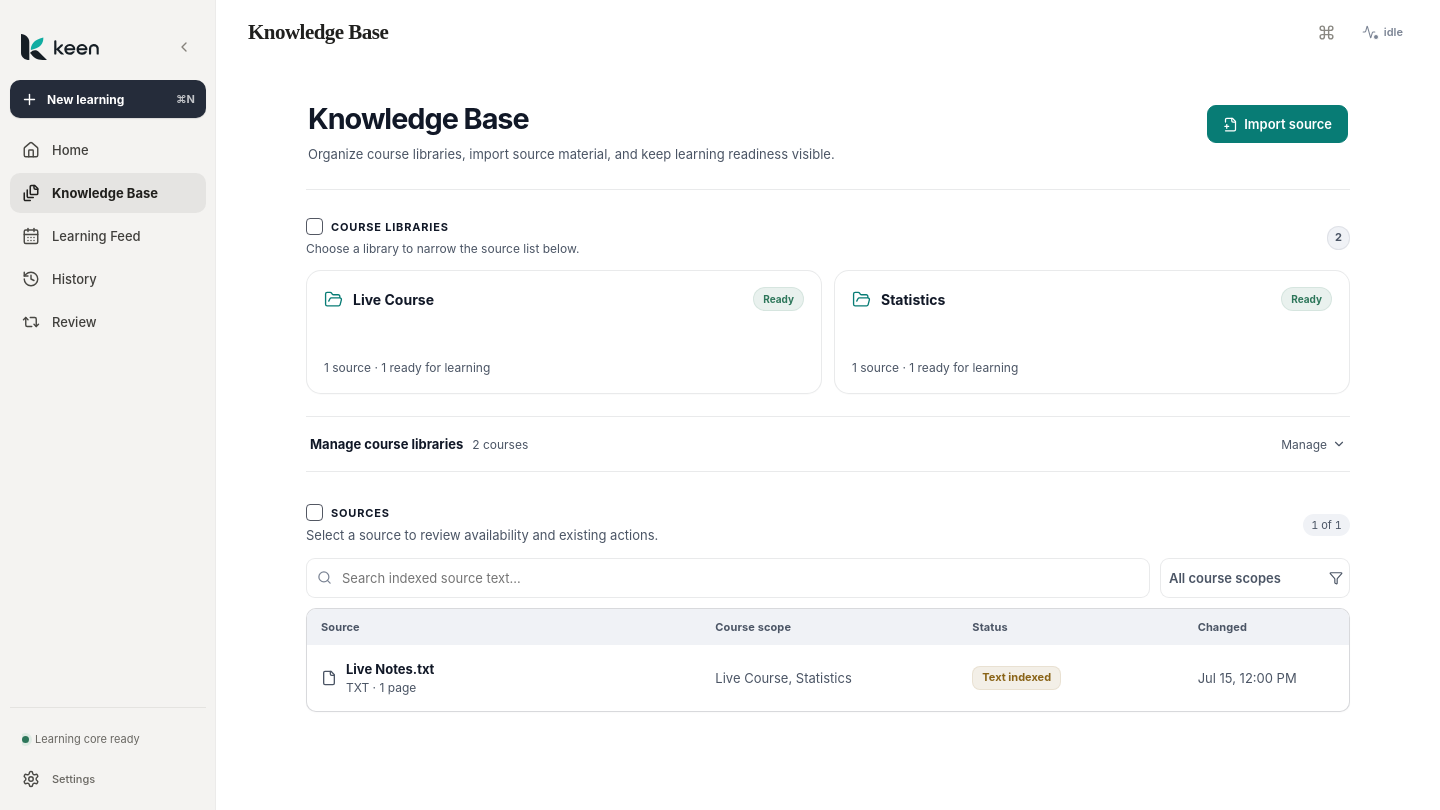
Test: learning-core runtime states › requires an explicit linked course when one indexed source belongs to several courses
Click the button with aria-label "Open source details: Live Notes.txt": x=828, y=678 [307,645,1349,711]
(page scrolled)
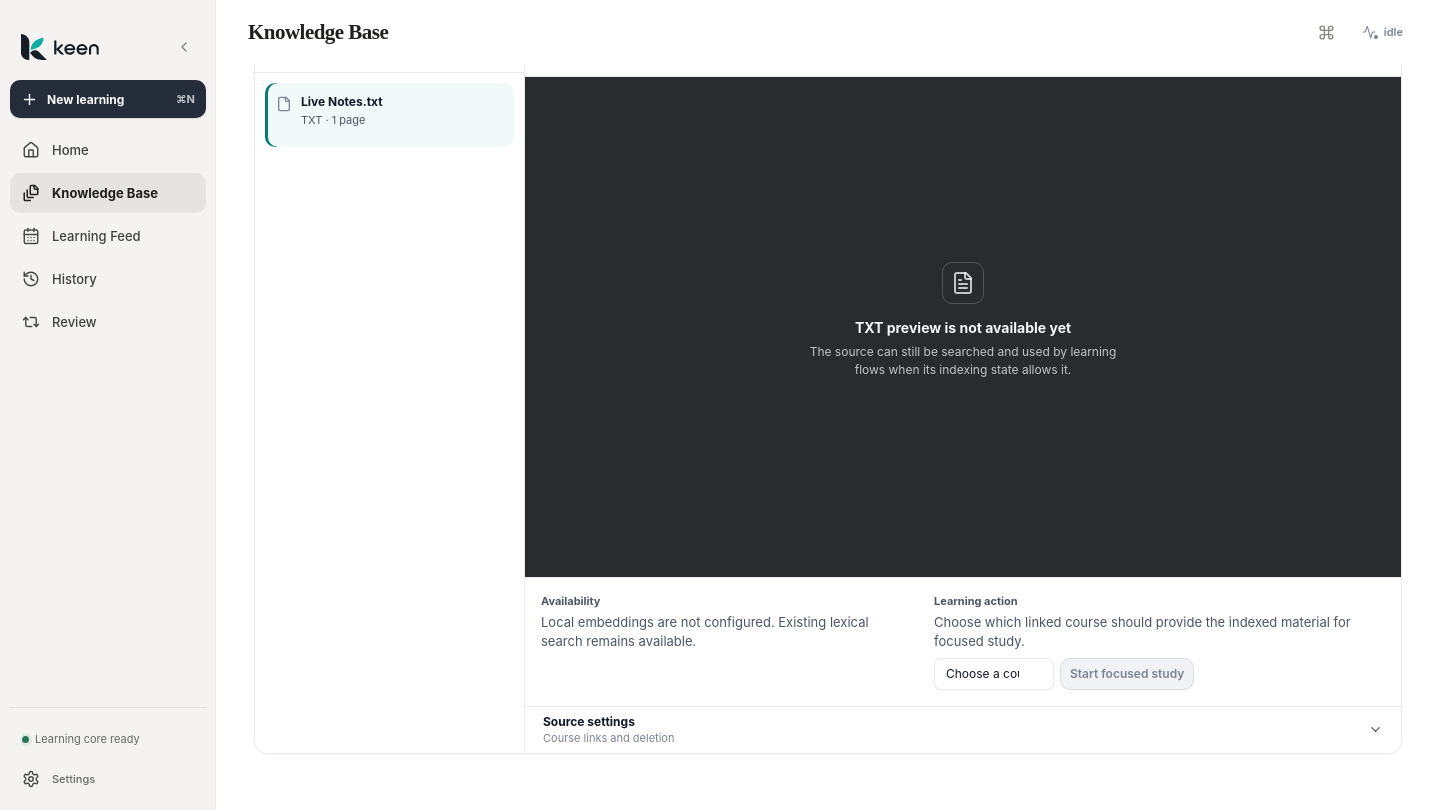
Expected: the dropdown named "Course for learning from Live Notes.txt" shows "Choose a course"
Expected: the button "Start focused study" is disabled, [1060,658,1194,690]
Select "Statistics" in the dropdown named "Course for learning from Live Notes.txt": x=994, y=674 [934,658,1054,690]
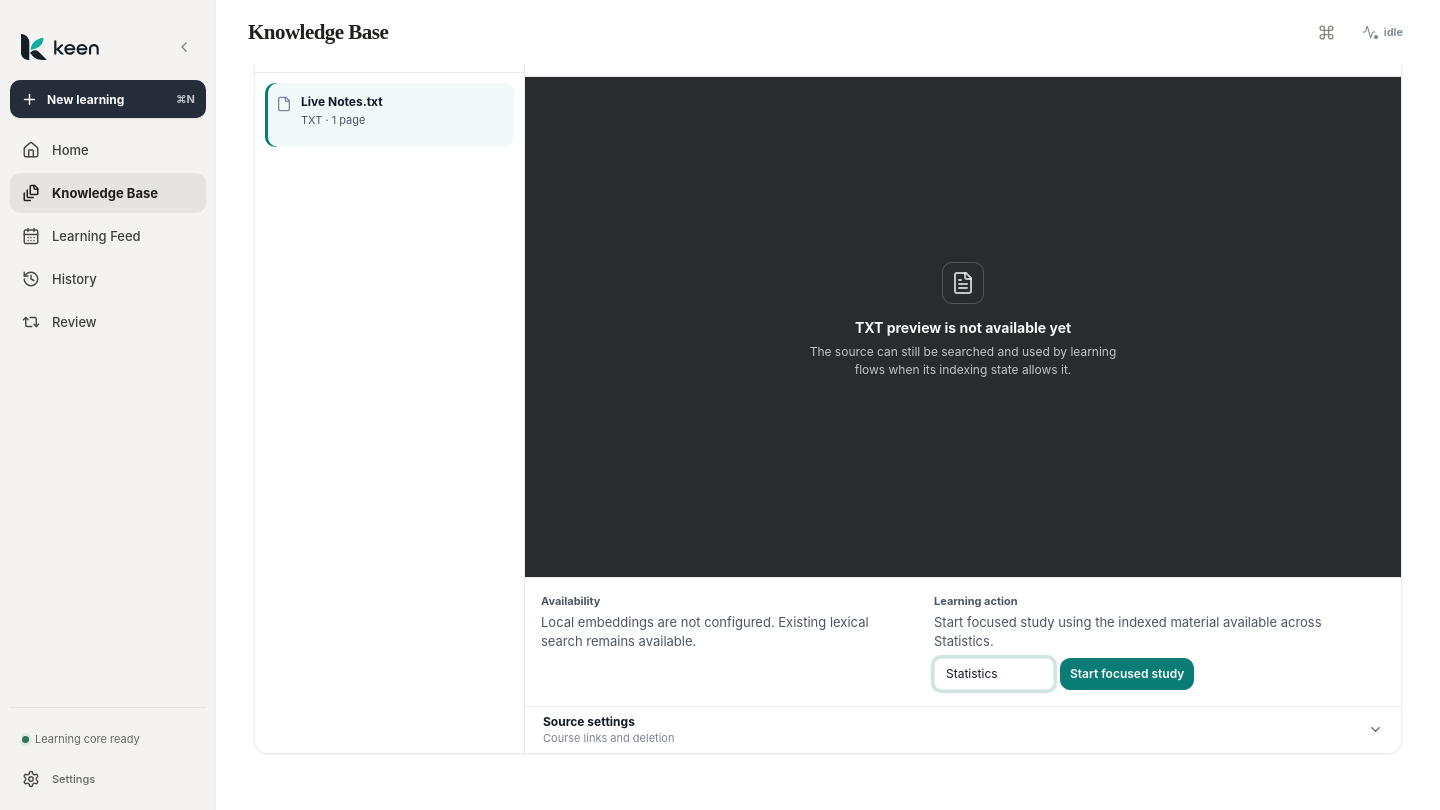
Click the button "Start focused study": x=1127, y=674 [1060,658,1194,690]
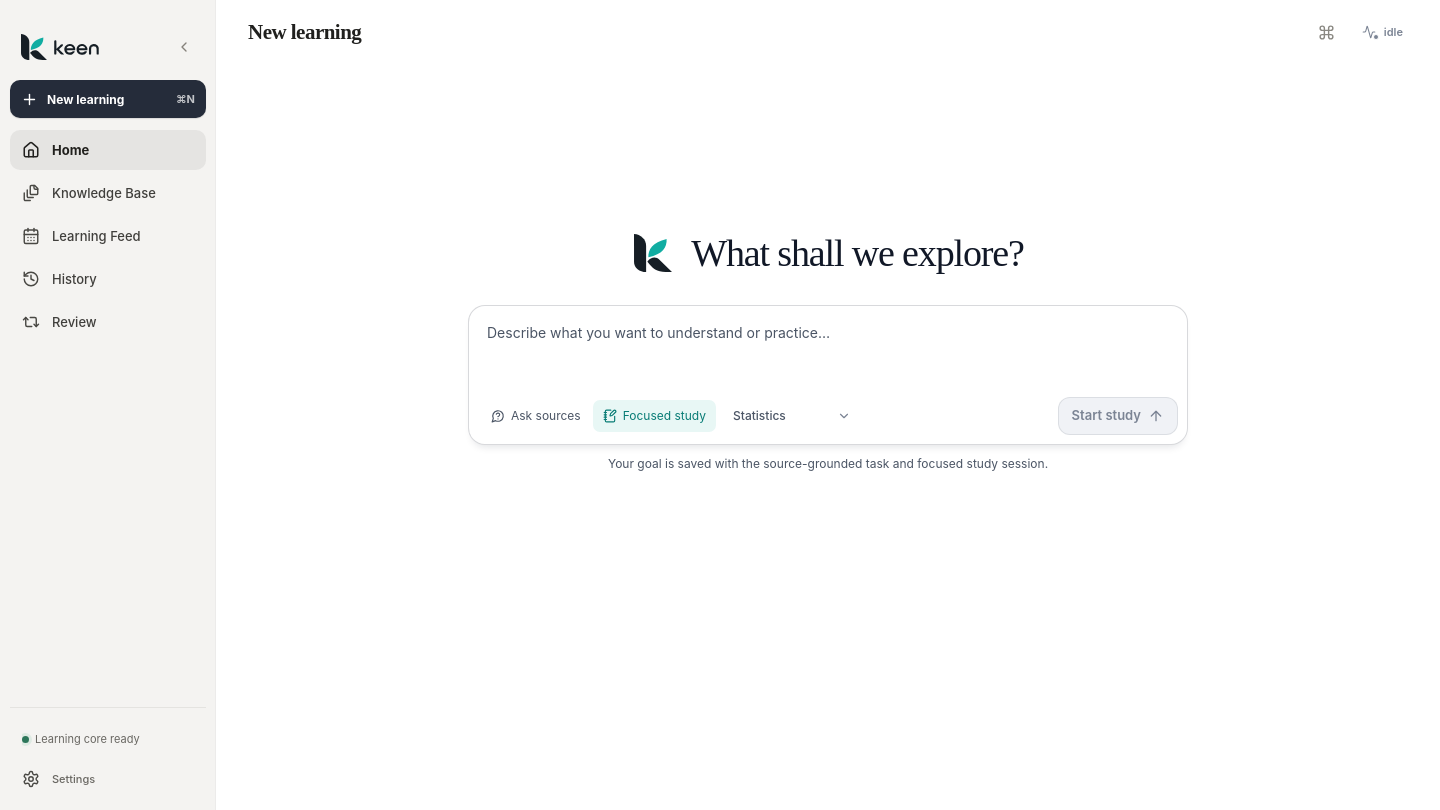
Expected: the dropdown named "Learning source course" shows "Statistics", [723,399,859,433]
